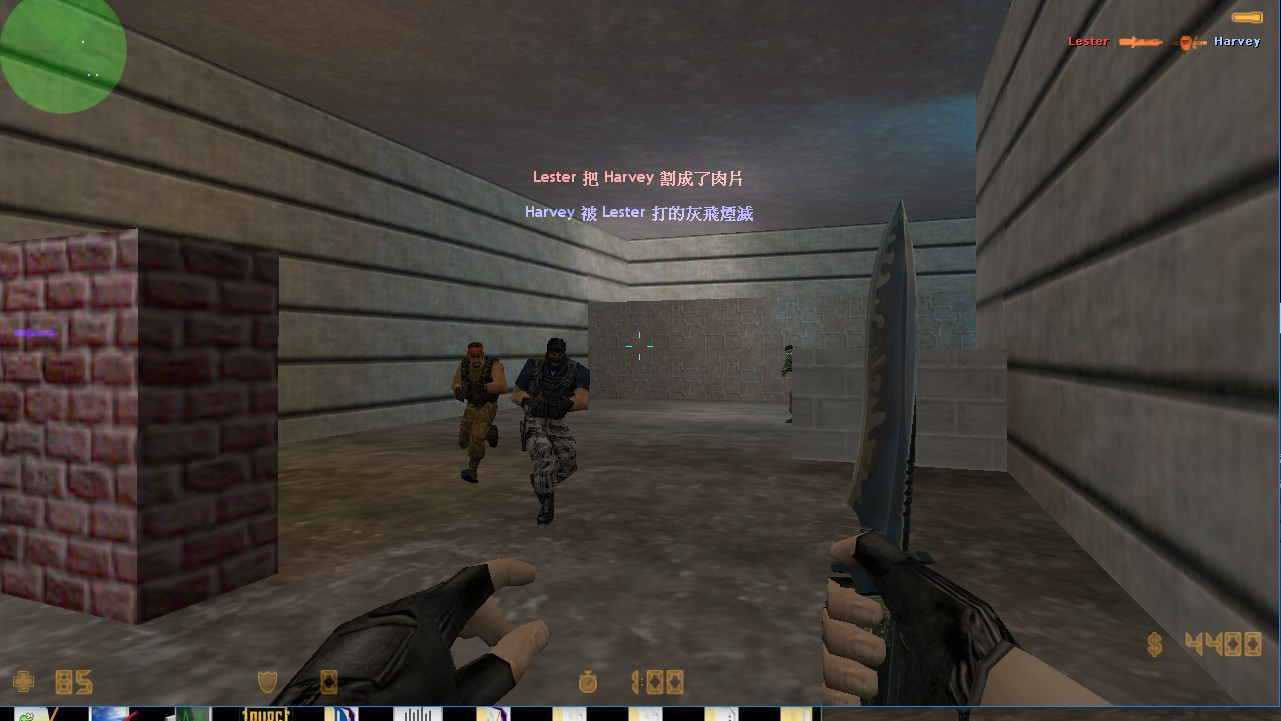person: (519, 325, 597, 529), (447, 335, 507, 490)
